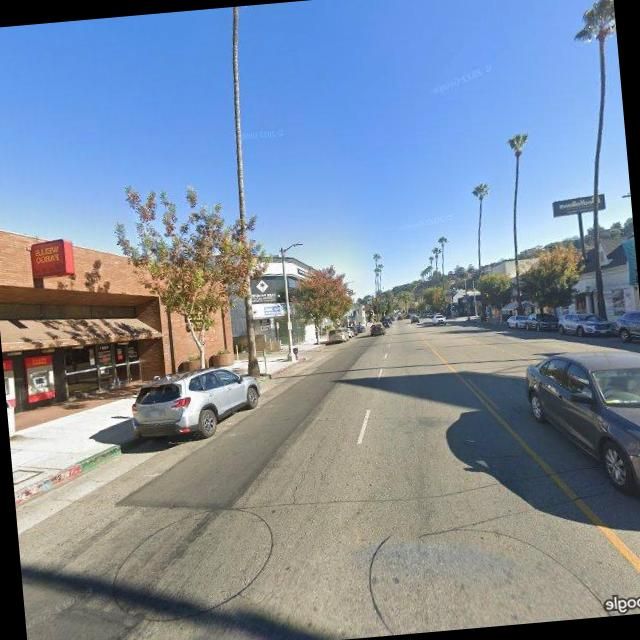pothole: (283, 434, 333, 504)
